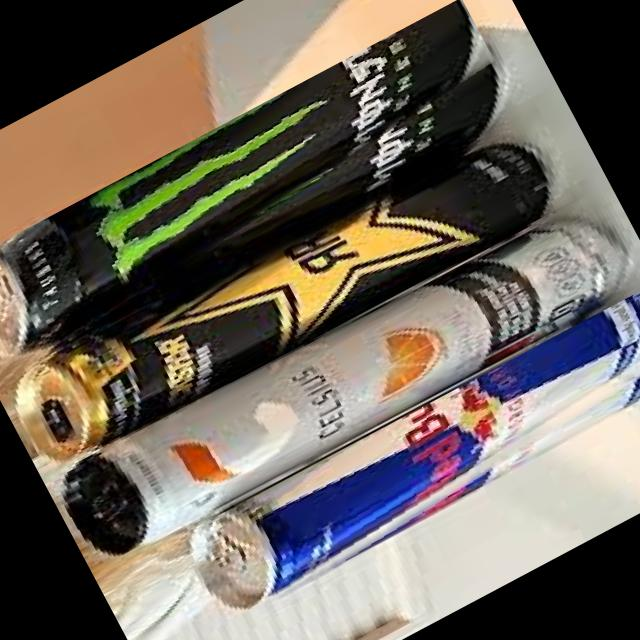Cans: (47, 191, 640, 576), (2, 109, 573, 477), (0, 0, 520, 385), (156, 277, 640, 640)
